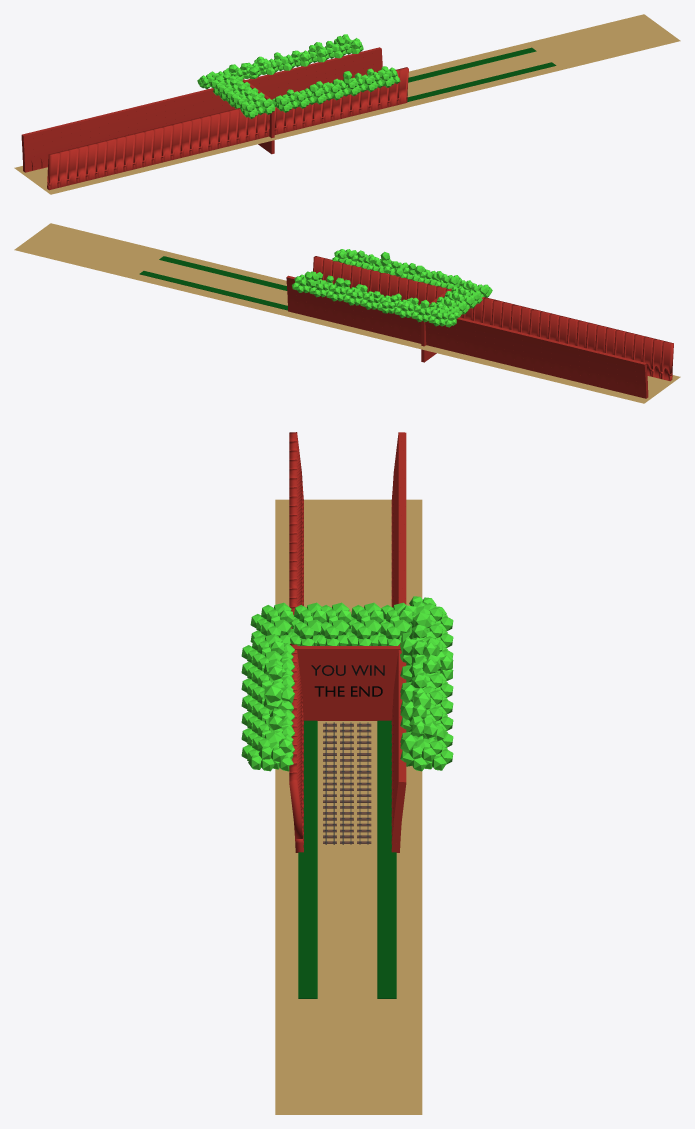
File: END.glb
3 views of the same model, one above another, from view 1: azimuth 30°, elevation 25°; view 2: azimuth 150°, elevation 25°; view 3: azimuth 270°, elevation 25° (orthographic). The views are drawn at different scales.
Visible parts, largest first — view 1: red wall dup.004, red wall dup.003, base.001, base.003, Cube.098, Cube.099, Cube.001; view 2: red wall dup.003, base.001, red wall dup.004, base.003, Cube.099, Cube.098, Cube.001; view 3: base.001, base.003, Cube.001, Cube.099, Cube.098, red wall dup.003, red wall dup.004, rail wooden block.002, railrod.002.
Part boxes in pixels (x1,y1,x2,y2): red wall dup.004: (47,67,408,190); red wall dup.003: (21,47,382,172); base.001: (382,14,680,109); base.003: (14,102,412,194); Cube.098: (407,62,556,101); Cube.099: (408,47,536,82); Cube.001: (242,79,274,154); red wall dup.003: (286,275,648,398); base.001: (14,223,412,345); red wall dup.004: (313,256,673,381); base.003: (365,332,680,403); Cube.099: (139,271,287,310); Cube.098: (159,256,287,290); Cube.001: (421,288,451,362); base.001: (275,731,422,1114); base.003: (275,499,422,758); Cube.001: (292,646,400,720); Cube.099: (377,720,396,998); Cube.098: (298,720,317,998); red wall dup.003: (391,432,406,852); red wall dup.004: (289,432,303,852); rail wooden block.002: (323,723,371,843); railrod.002: (325,722,368,844).
Bounding box in the file's own units: 396 × 40.89 × 57.72.
